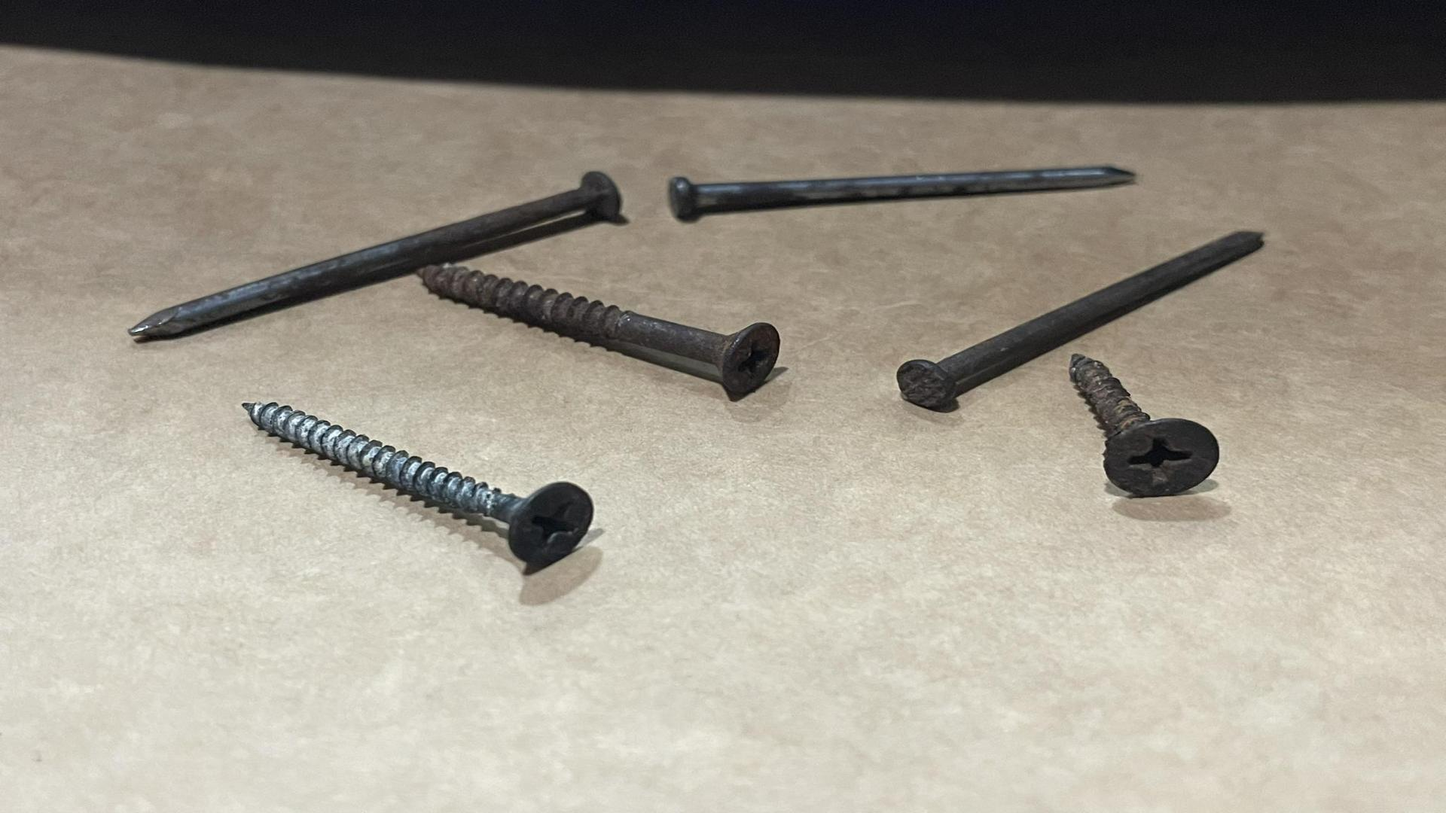nail: (100, 143, 664, 349), (866, 225, 1282, 426), (658, 158, 1158, 235)
screw: (219, 377, 631, 602), (415, 265, 799, 400), (1053, 348, 1240, 519)
